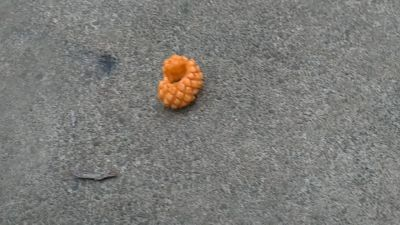eggs: (157, 54, 205, 110)
